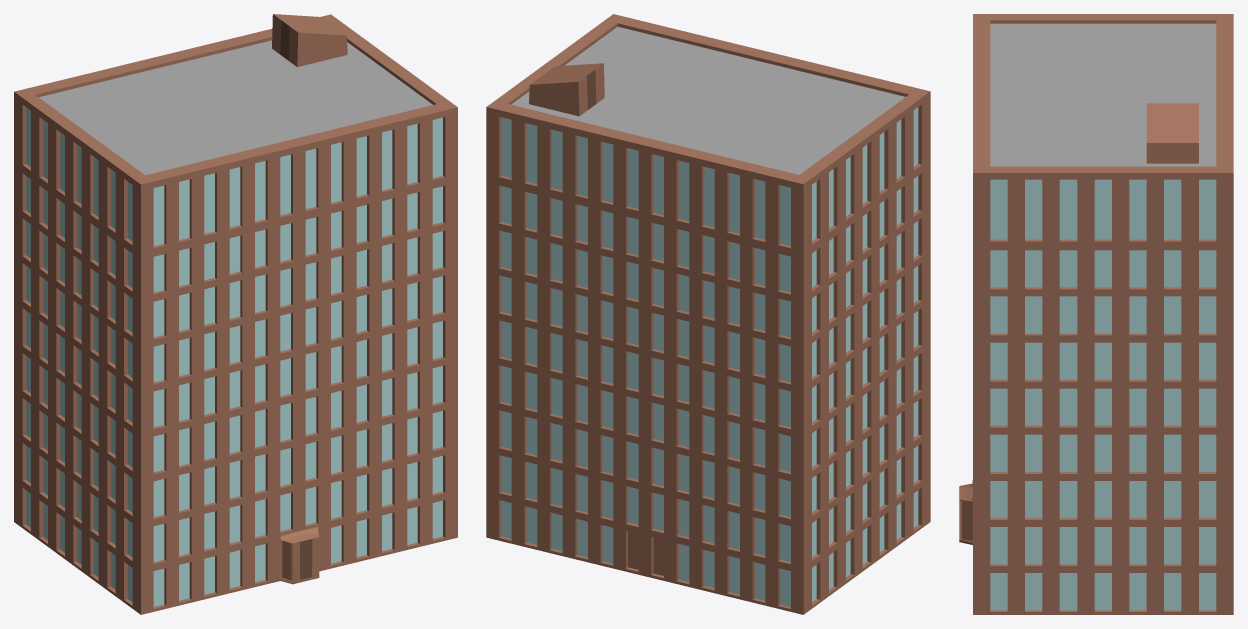
File: building4.fbx
3 views of the same model, side by side, from view 1: azimuth 30°, elevation 25°; view 2: azimuth 150°, elevation 25°; view 3: azimuth 270°, elevation 25° (orthographic). The views are drawn at different scales.
Parts seen in each view (by area): view 1: pCube2; view 2: pCube2; view 3: pCube2.
Boxes of the visible parts, x1,y1,x2,y2 form: pCube2: [14, 14, 457, 614]; pCube2: [486, 14, 930, 614]; pCube2: [959, 14, 1233, 614].
Size of the model in its own units: 31.72 by 44.14 by 23.15.
